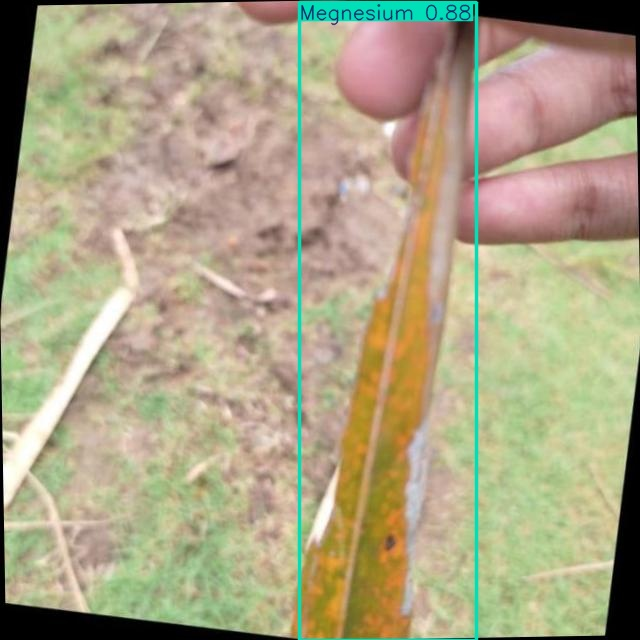Megnesium: (299, 3, 477, 640)
